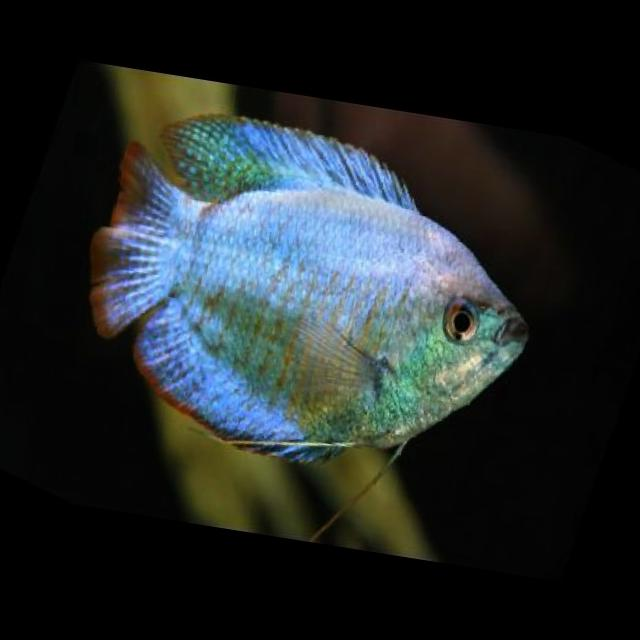Gourami: (54, 87, 560, 500)
